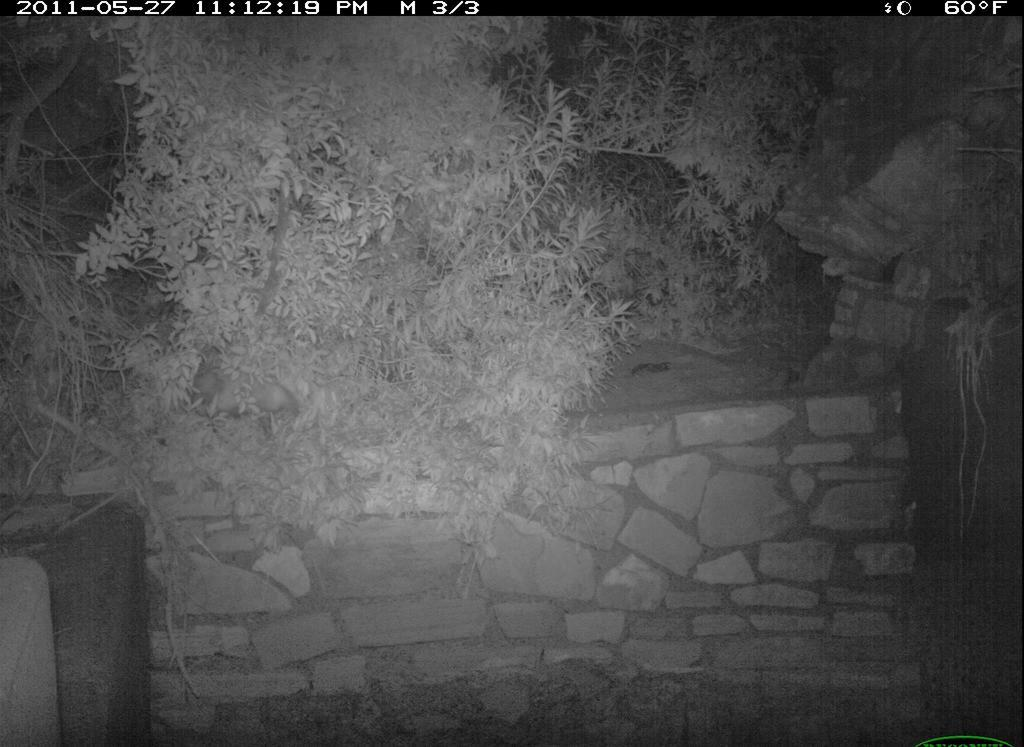opossum: (180, 359, 315, 429)
